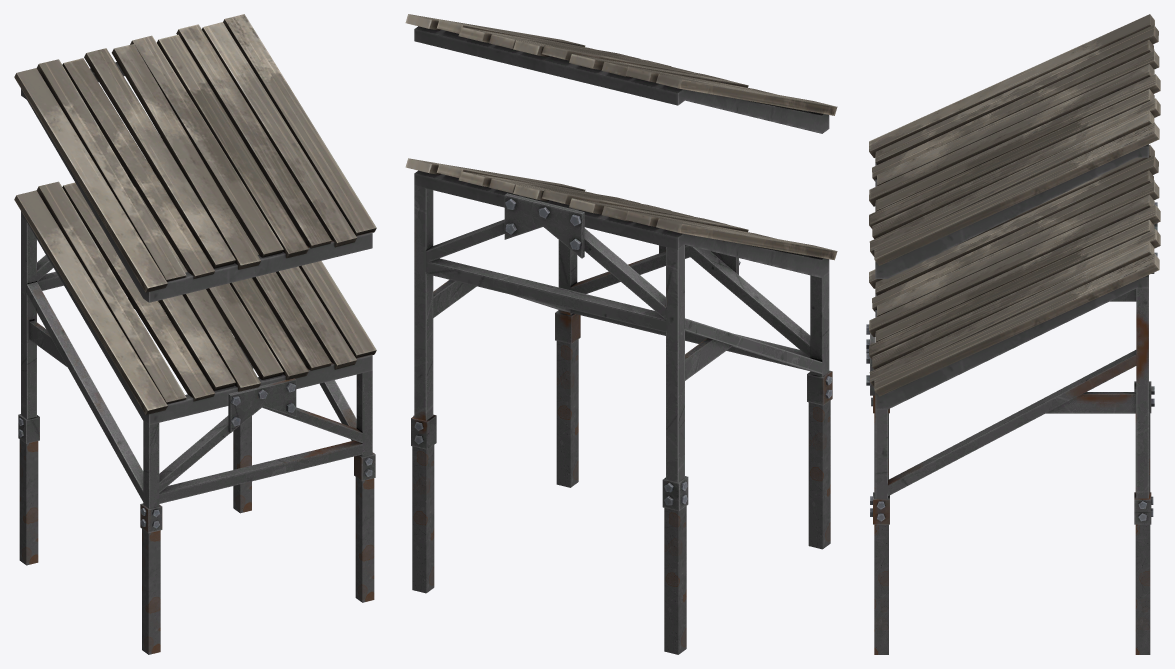
File: WoodPlatform_Ramp2x2.glb
3 views of the same model, side by side, from view 1: azimuth 30°, elevation 25°; view 2: azimuth 150°, elevation 25°; view 3: azimuth 270°, elevation 25° (orthographic). The views are drawn at different scales.
Parts seen in each view (by area): view 1: WoodPlatform_Ramp2x2, offset, 2x2scaffold_Ramp, ScaleSupportBeam_Metal (2) (×4); view 2: 2x2scaffold_Ramp, WoodPlatform_Ramp2x2, ScaleSupportBeam_Metal (2) (×4), offset; view 3: WoodPlatform_Ramp2x2, offset, 2x2scaffold_Ramp, ScaleSupportBeam_Metal (2) (×2).
Boxes of the visible parts, box(x1,y1,x2,y2) form: WoodPlatform_Ramp2x2: box(14, 14, 376, 302); offset: box(14, 159, 376, 424); 2x2scaffold_Ramp: box(18, 218, 375, 533); ScaleSupportBeam_Metal (2) (×4): box(19, 416, 374, 654); 2x2scaffold_Ramp: box(411, 185, 832, 511); WoodPlatform_Ramp2x2: box(405, 14, 837, 133); ScaleSupportBeam_Metal (2) (×4): box(412, 339, 830, 654); offset: box(405, 158, 837, 277); WoodPlatform_Ramp2x2: box(869, 14, 1160, 278); offset: box(869, 145, 1160, 409); 2x2scaffold_Ramp: box(866, 202, 1157, 524); ScaleSupportBeam_Metal (2) (×2): box(874, 524, 1150, 654).
Size of the model in its own units: 1.98 by 4.01 by 2.04.
3 materials, 3 textured.
